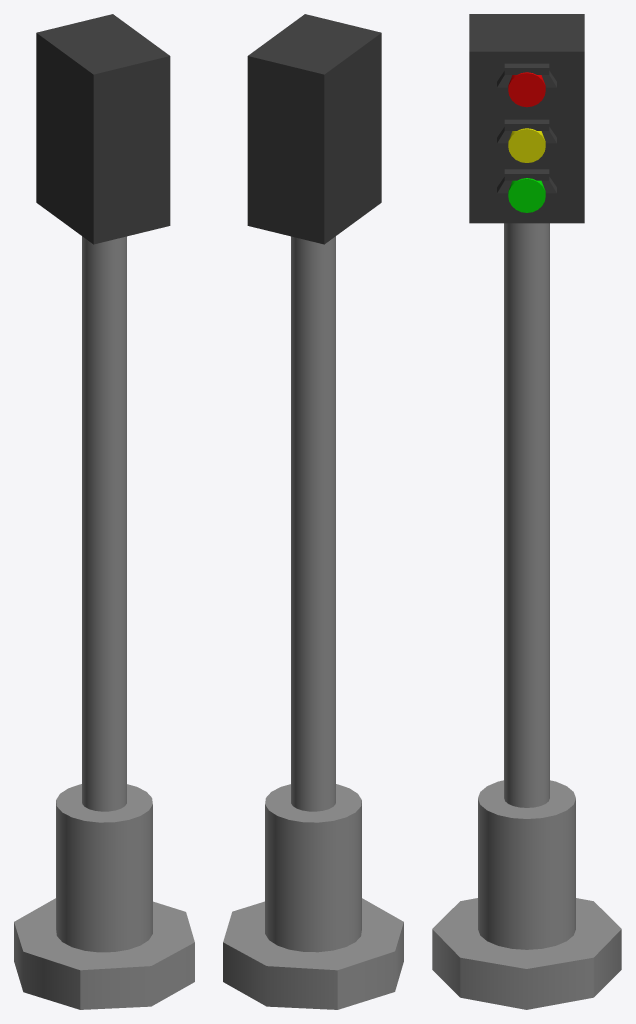
The model's file is Traffic Light.fbx.
The picture shows the model from 3 angles, left to right: view 1: azimuth 30°, elevation 25°; view 2: azimuth 150°, elevation 25°; view 3: azimuth 270°, elevation 25°; orthographic projection.
Visible parts, largest first — view 1: pCube2, pCylinder1, pasted__pCylinder1, pCube1; view 2: pCube2, pCylinder1, pasted__pCylinder1, pCube1; view 3: pCylinder1, pCube2, pasted__pCylinder1, pCube1, pasted__pasted__pCube3, pasted__pCube3, pCube3, pasted__pasted__pCylinder2, pCylinder2, pasted__pCylinder2.
Boxes of the visible parts, x1=… form: pCube2: x1=36, y1=14, x2=170, y2=244; pCylinder1: x1=82, y1=236, x2=126, y2=811; pasted__pCylinder1: x1=56, y1=784, x2=152, y2=952; pCube1: x1=14, y1=898, x2=194, y2=1009; pCube2: x1=247, y1=14, x2=381, y2=244; pCylinder1: x1=291, y1=236, x2=335, y2=811; pasted__pCylinder1: x1=265, y1=784, x2=361, y2=952; pCube1: x1=223, y1=898, x2=403, y2=1009; pCylinder1: x1=504, y1=223, x2=549, y2=807; pCube2: x1=469, y1=14, x2=584, y2=223; pasted__pCylinder1: x1=478, y1=780, x2=575, y2=949; pCube1: x1=432, y1=898, x2=621, y2=1009; pasted__pasted__pCube3: x1=497, y1=169, x2=556, y2=207; pasted__pCube3: x1=497, y1=119, x2=556, y2=157; pCube3: x1=497, y1=63, x2=556, y2=101; pasted__pasted__pCylinder2: x1=508, y1=178, x2=545, y2=212; pCylinder2: x1=508, y1=72, x2=545, y2=107; pasted__pCylinder2: x1=508, y1=128, x2=545, y2=162.
Bounding box in the file's own units: 1.21 × 6.58 × 1.21.
